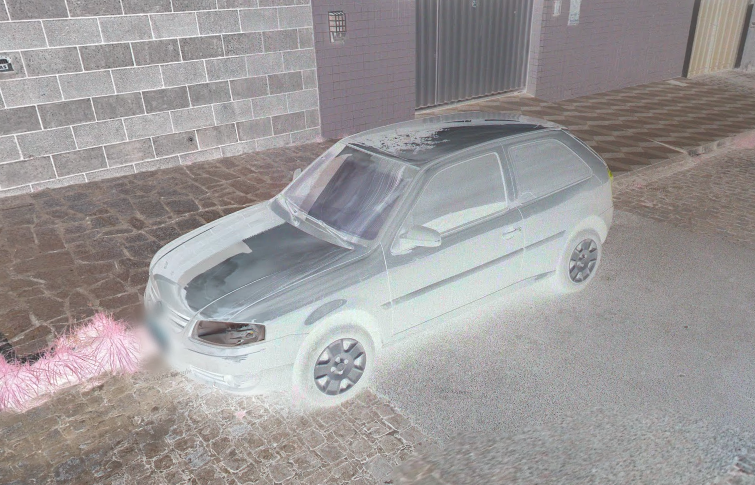car: (140, 109, 615, 406)
